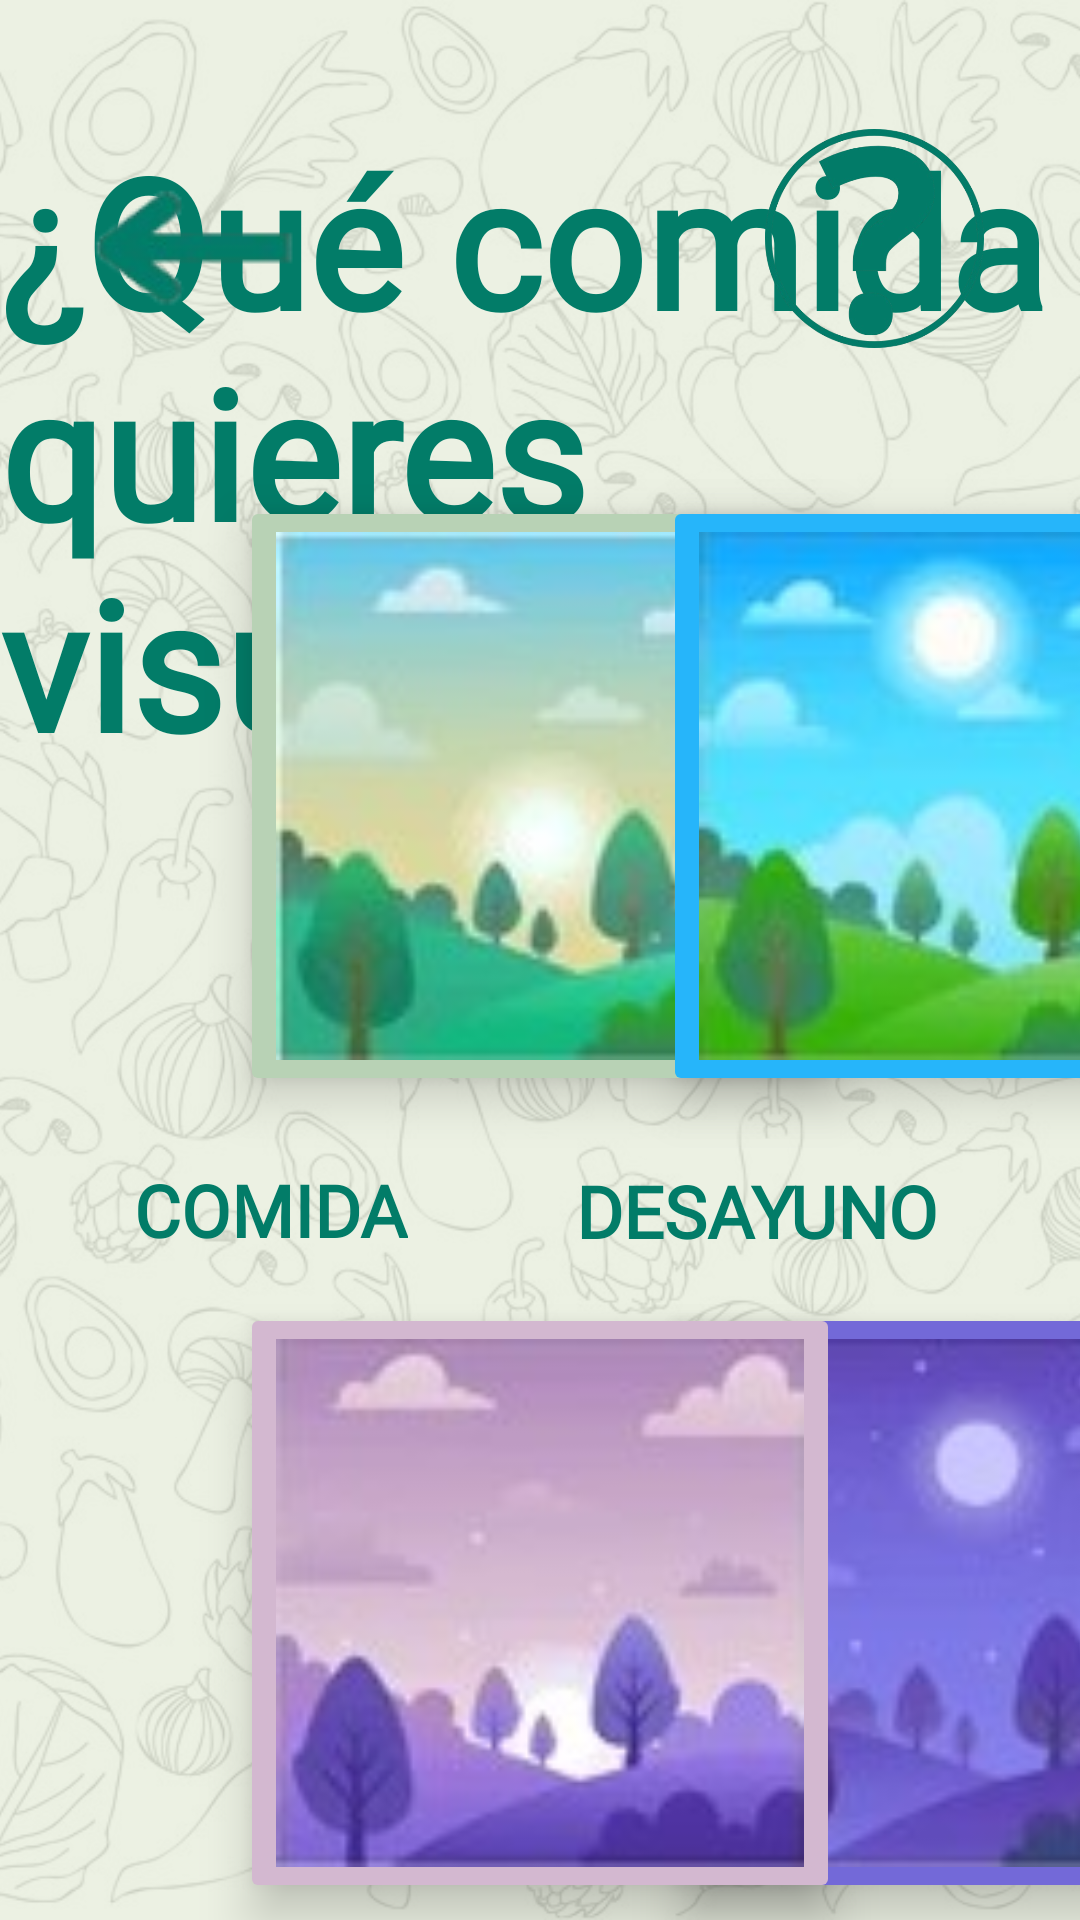

Locate icon controls on the screen. Image size 1080×1920, boxes as (x1, y1, x2, y2).
question mark: (765, 120, 984, 357)
